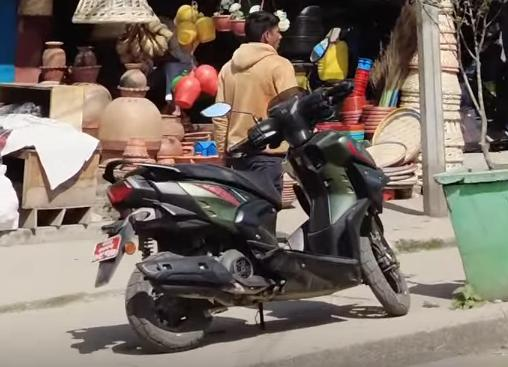scooter: (86, 32, 416, 355)
